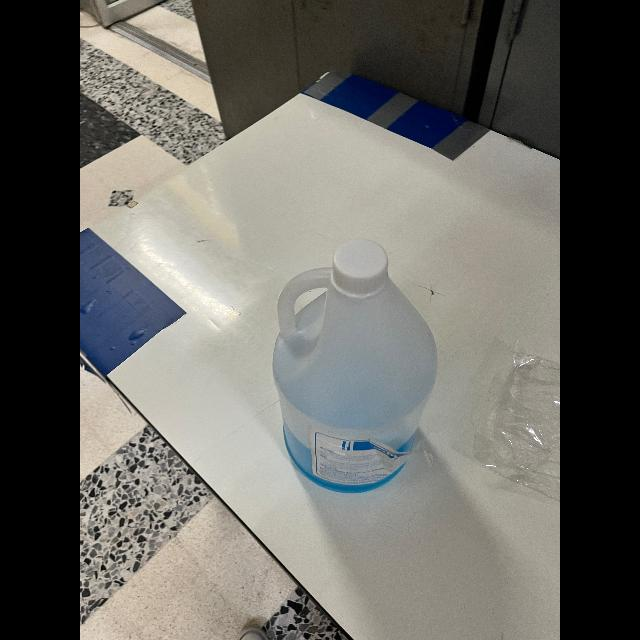chemical_plastic_gallon: (270, 241, 444, 504)
